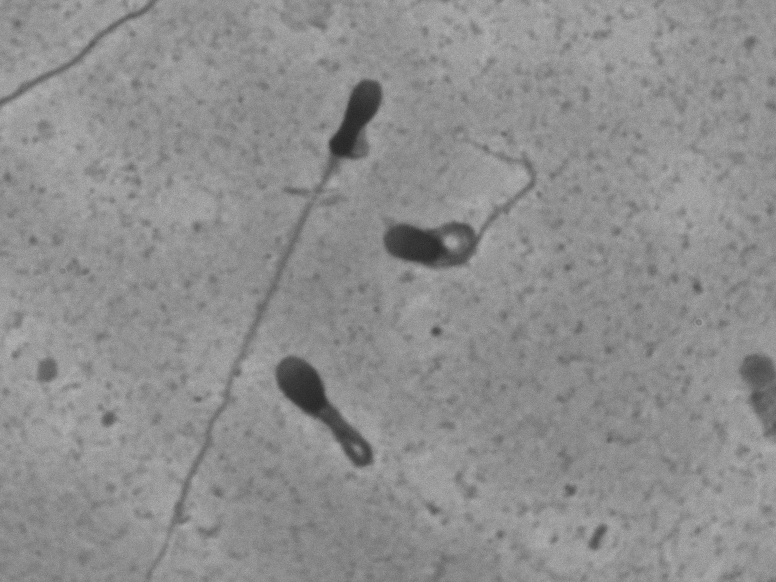Abnormal: (133, 67, 400, 556), (373, 139, 576, 288), (262, 345, 395, 492)
